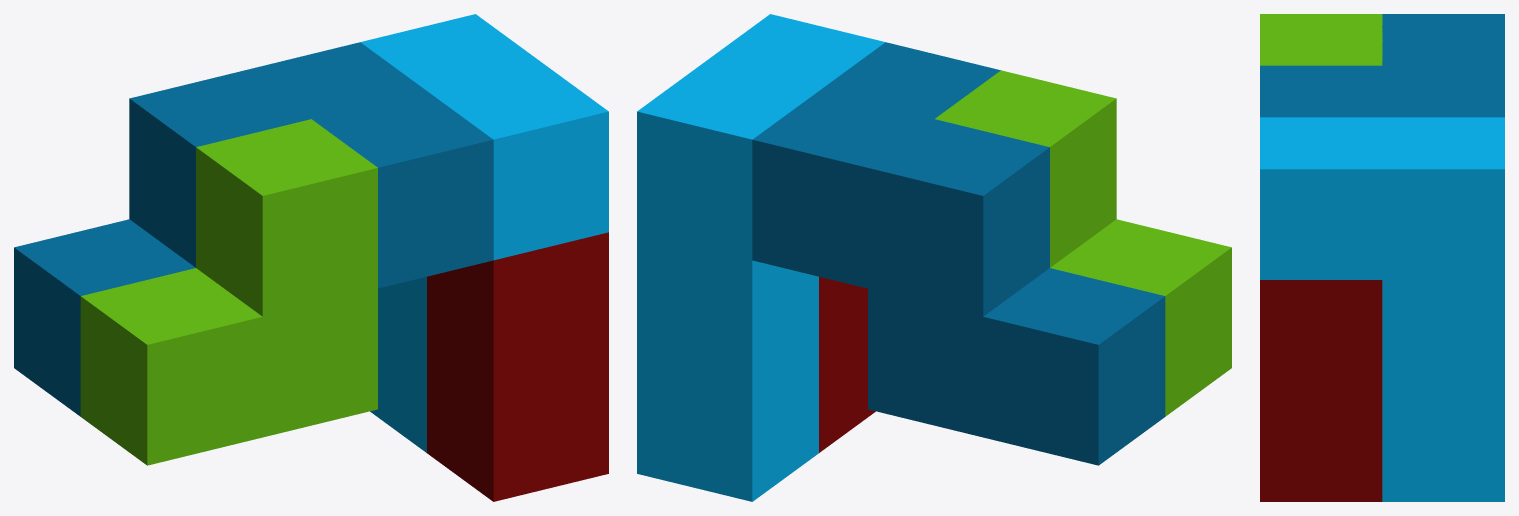
The picture shows the model from 3 angles, left to right: view 1: azimuth 30°, elevation 25°; view 2: azimuth 150°, elevation 25°; view 3: azimuth 270°, elevation 25°; orthographic projection. The views are drawn at different scales.
Parts seen in each view (by area): view 1: mergedBlocks(Clone); view 2: mergedBlocks(Clone); view 3: mergedBlocks(Clone).
Boxes of the visible parts, box(x1,y1,x2,y2) form: mergedBlocks(Clone): box(14, 14, 608, 501); mergedBlocks(Clone): box(637, 14, 1231, 501); mergedBlocks(Clone): box(1260, 14, 1504, 501).
Bounding box in the file's own units: 4 × 3 × 2.
Materials: 4 (4 with a texture image).
